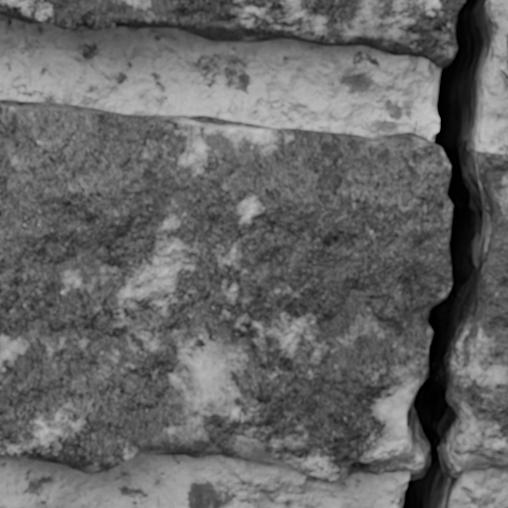brick: (0, 0, 463, 66), (499, 59, 507, 84)
broken_brick: (0, 98, 451, 483), (452, 150, 507, 472)
crack: (398, 0, 506, 507)
